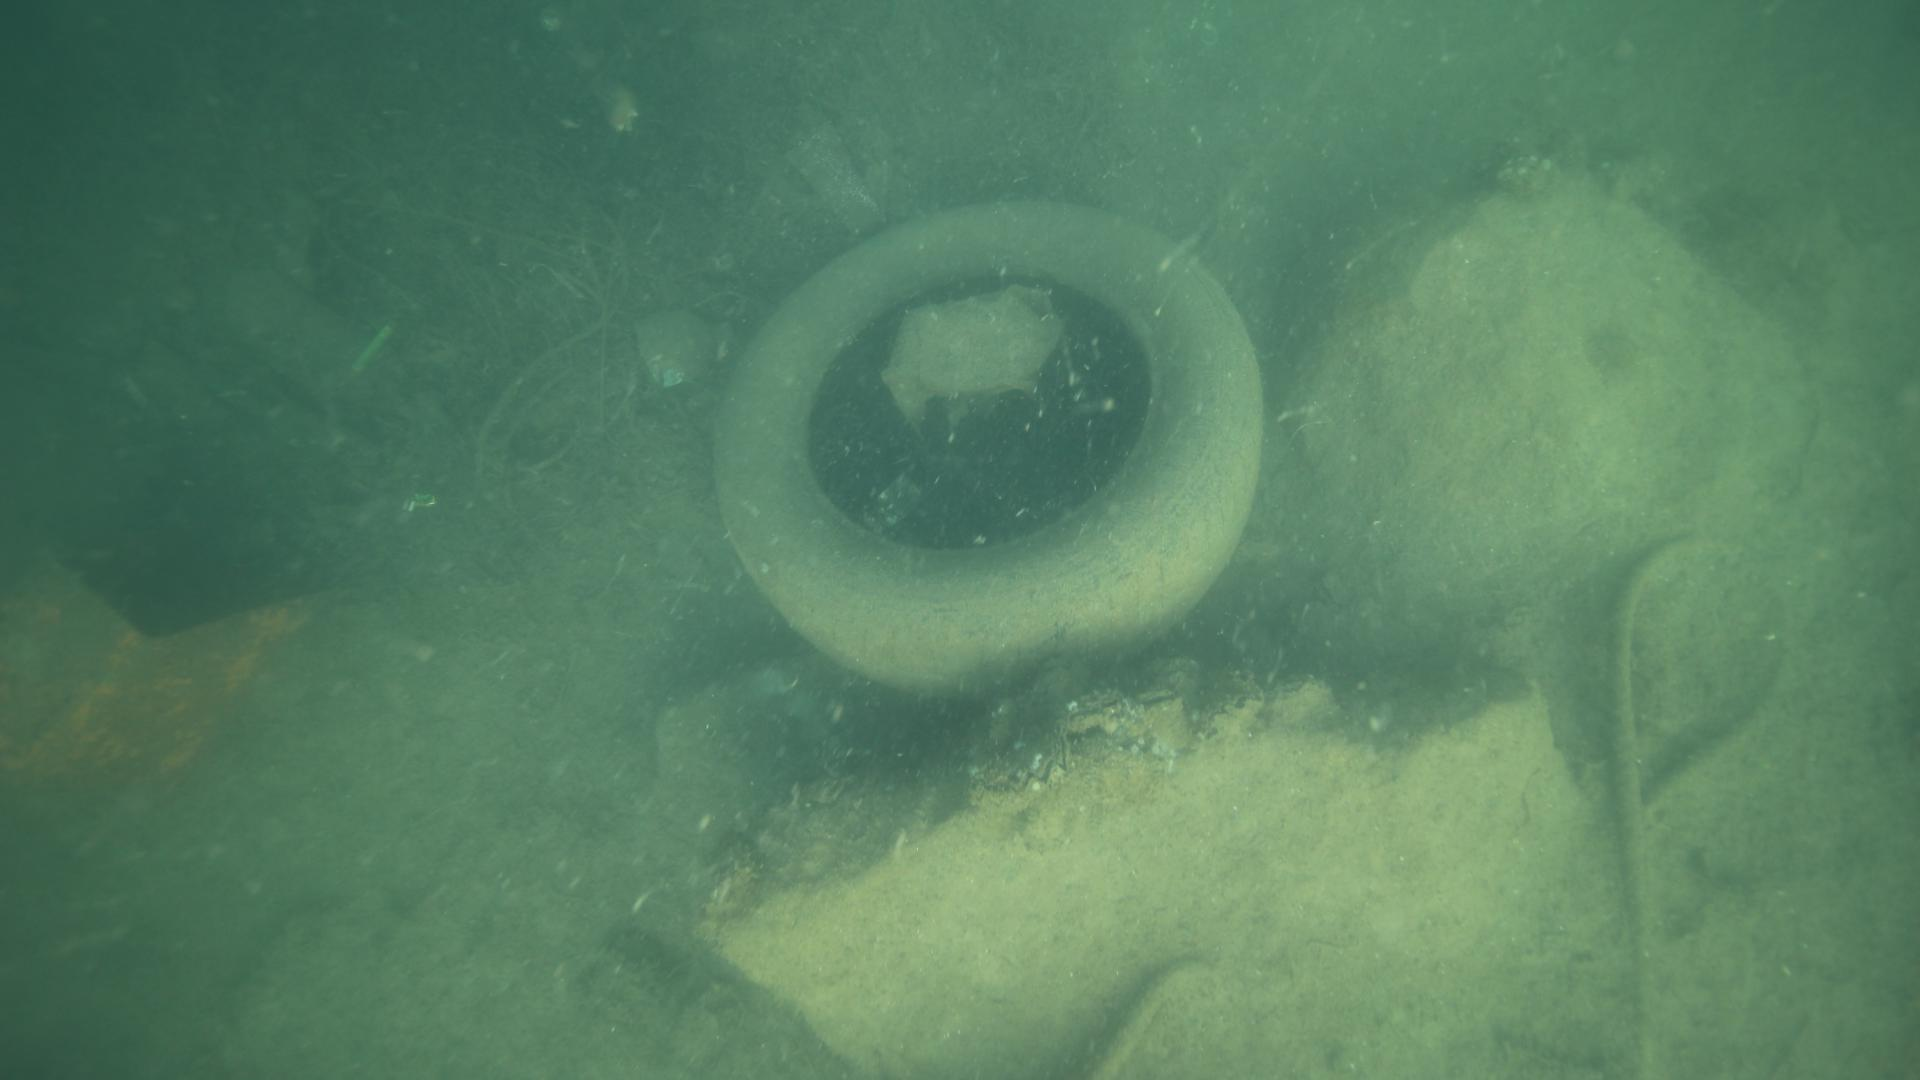tire: (721, 200, 1270, 694)
